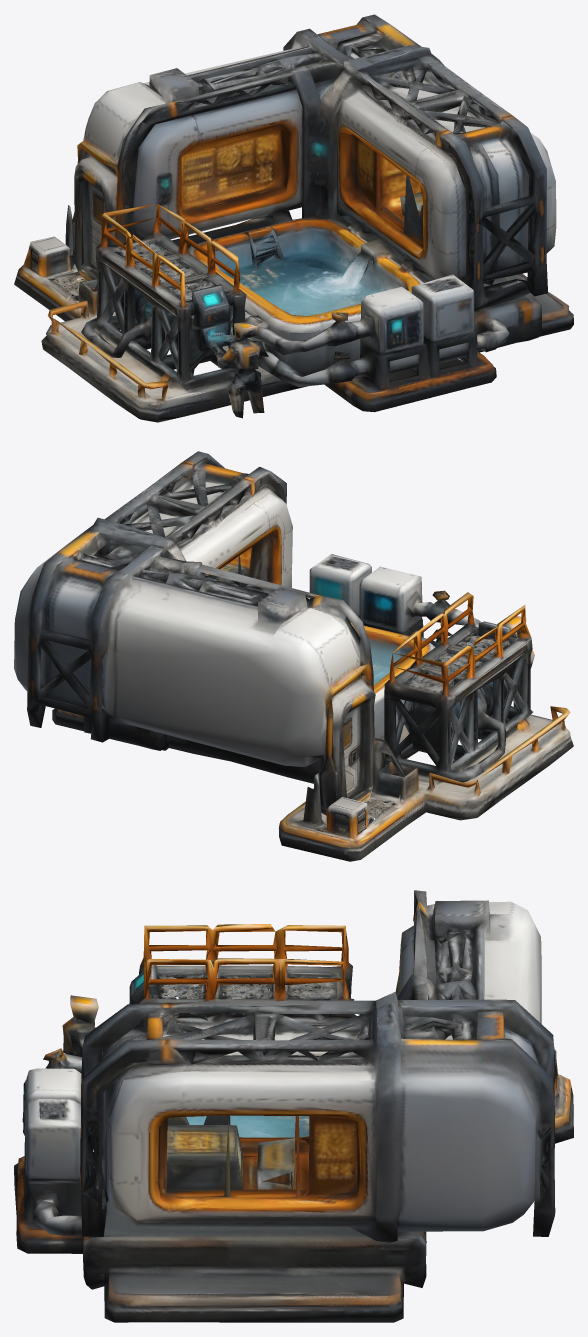
File: building-aquaculture-facility-l1.glb
The picture shows the model from 3 angles, top to bottom: view 1: azimuth 30°, elevation 25°; view 2: azimuth 150°, elevation 25°; view 3: azimuth 270°, elevation 25°; orthographic projection. The views are drawn at different scales.
Parts seen in each view (by area): view 1: tripo_node_cd4adde8-8953-4c5b-87c8-af57ce1e9477; view 2: tripo_node_cd4adde8-8953-4c5b-87c8-af57ce1e9477; view 3: tripo_node_cd4adde8-8953-4c5b-87c8-af57ce1e9477.
Part boxes in pixels (bbox=[...]): tripo_node_cd4adde8-8953-4c5b-87c8-af57ce1e9477: bbox=[14, 14, 573, 422]; tripo_node_cd4adde8-8953-4c5b-87c8-af57ce1e9477: bbox=[14, 451, 573, 861]; tripo_node_cd4adde8-8953-4c5b-87c8-af57ce1e9477: bbox=[14, 890, 573, 1322].
Size of the model in its own units: 0.979 by 0.4619 by 0.8979.
Materials: 1 (1 with a texture image).
